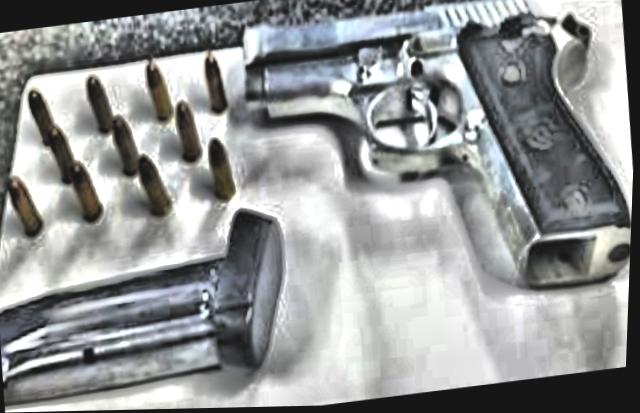pistol: (219, 0, 640, 331)
